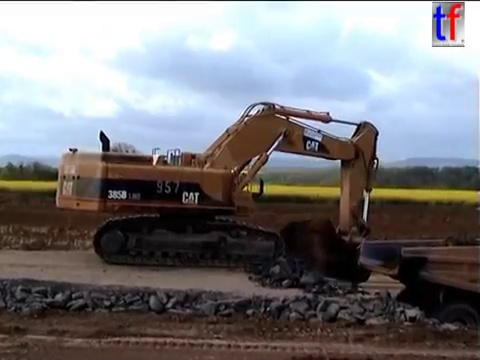excavator: (52, 99, 383, 289)
truck: (353, 235, 480, 356)
